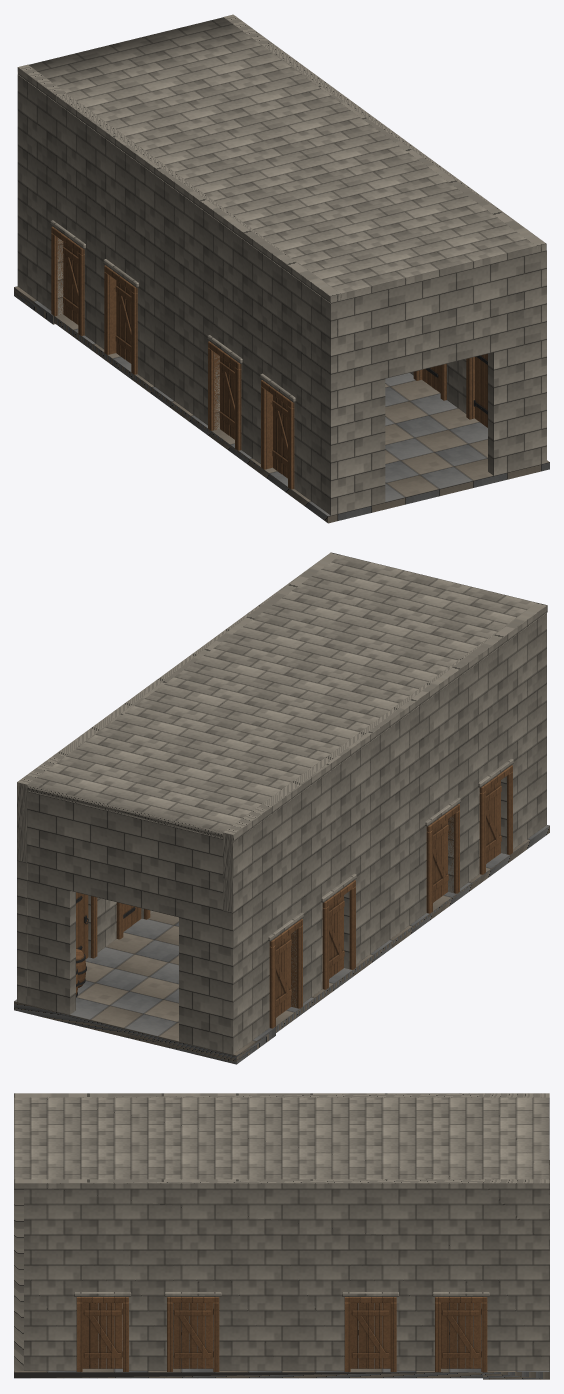
File: MOD_8Rooms.fbx
3 views of the same model, one above another, from view 1: azimuth 30°, elevation 25°; view 2: azimuth 150°, elevation 25°; view 3: azimuth 270°, elevation 25° (orthographic). The views are drawn at different scales.
Visible parts, largest first — view 1: Ceiling.003, Wall_Side.002, Wall_N_R.002, Wall_N_R.003, Floor.001, Wall_S.001, Wall_S, Exit_Head, Wall_Side.001, Doorway_Frame.004, Doorway_Frame.006, Doorway_Frame.007 (+7 smaller); view 2: Ceiling.003, Wall_Side.002, Wall_N_R.002, Wall_N_R.003, Wall_S.003, Exit_Head.001, Wall_S.002, Floor.001, Ledge_Floor, Wall_Side.001, Wall_N_R.004, Doorway_Frame.005 (+8 smaller); view 3: Ceiling.003, Wall_Side.001, Wall_N_R.004, Wall_N_R.005, Floor.001, Wall_Side.002, Door_Right, Door_Right.001, Door_Left, Door_Left.001, Wall_S.001, Doorway_Frame.003 (+4 smaller).
Part boxes in pixels (box(x1,y1,x2,y2)): Ceiling.003: box(17, 17, 545, 303); Wall_Side.002: box(17, 64, 341, 373); Wall_N_R.002: box(17, 145, 174, 400); Wall_N_R.003: box(174, 260, 330, 515); Floor.001: box(54, 314, 549, 523); Wall_S.001: box(488, 250, 546, 475); Wall_S: box(331, 290, 385, 515); Exit_Head: box(385, 264, 493, 378); Wall_Side.001: box(223, 14, 546, 251); Doorway_Frame.004: box(103, 259, 138, 374); Doorway_Frame.006: box(260, 373, 295, 489); Doorway_Frame.007: box(207, 335, 242, 450); Ceiling.003: box(27, 555, 547, 841); Wall_Side.002: box(223, 602, 546, 912); Wall_N_R.002: box(222, 798, 389, 1055); Wall_N_R.003: box(390, 683, 546, 939); Wall_S.003: box(27, 791, 75, 1014); Exit_Head.001: box(70, 801, 178, 917); Wall_S.002: box(179, 828, 222, 1051); Floor.001: box(85, 825, 549, 1032); Ledge_Floor: box(14, 980, 275, 1064); Wall_Side.001: box(17, 552, 340, 862); Wall_N_R.004: box(17, 860, 153, 1004); Doorway_Frame.005: box(268, 912, 303, 1028); Ceiling.003: box(14, 1097, 549, 1179); Wall_Side.001: box(14, 1179, 549, 1249); Wall_N_R.004: box(282, 1246, 549, 1370); Wall_N_R.005: box(24, 1250, 281, 1370); Floor.001: box(14, 1303, 482, 1378); Wall_Side.002: box(14, 1093, 549, 1163); Door_Right: box(82, 1303, 122, 1368); Door_Right.001: box(350, 1303, 390, 1368); Door_Left: box(173, 1303, 213, 1368); Door_Left.001: box(441, 1303, 481, 1368); Wall_S.001: box(14, 1189, 23, 1370); Doorway_Frame.003: box(342, 1292, 398, 1371).
Size of the model in its own units: 656 by 643 by 1600.
